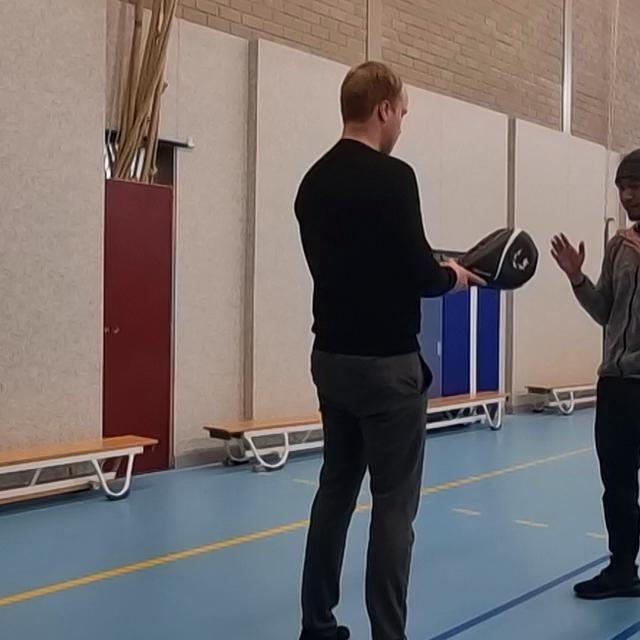paddle: (434, 228, 549, 290)
